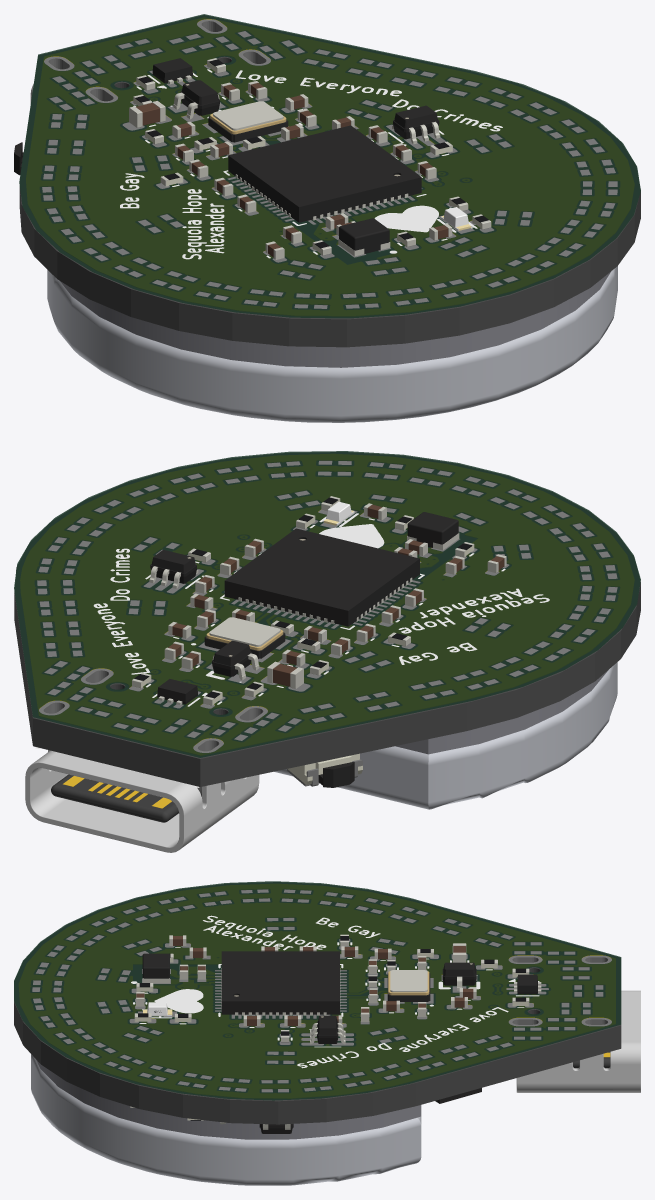
The model's file is board.glb.
3 views of the same model, one above another, from view 1: azimuth 30°, elevation 25°; view 2: azimuth 150°, elevation 25°; view 3: azimuth 270°, elevation 25° (orthographic). The views are drawn at different scales.
Visible parts, largest first — view 1: earring_soldermask, earring_copper, lpr302823, earring_PCB, earring_pad, QFN-56-1EP_7x7mm_P0.4mm_EP3.2x3.2mm, vhb_4956, earring_silkscreen, Crystal_SMD_3225-4Pin_3.2x2.5mm, L_Murata_DFE201610P, SOT-363_SC-70-6, SOT-323_SC-70 (+2 smaller); view 2: earring_soldermask, earring_copper, earring_PCB, earring_pad, USB_C_Receptacle_HRO_TYPE-C-31-M-12, lpr302823, QFN-56-1EP_7x7mm_P0.4mm_EP3.2x3.2mm, earring_silkscreen, vhb_4956, Crystal_SMD_3225-4Pin_3.2x2.5mm, SW_SPST_B3U-3000P, L_Murata_DFE201610P (+4 smaller); view 3: earring_soldermask, earring_copper, earring_PCB, lpr302823, earring_pad, QFN-56-1EP_7x7mm_P0.4mm_EP3.2x3.2mm, vhb_4956, USB_C_Receptacle_HRO_TYPE-C-31-M-12, earring_silkscreen, Crystal_SMD_3225-4Pin_3.2x2.5mm, L_Murata_DFE201610P, SOT-363_SC-70-6 (+2 smaller).
Boxes of the visible parts, x1=… form: earring_soldermask: x1=19, y1=14, x2=640, y2=318; earring_copper: x1=26, y1=18, x2=633, y2=315; lpr302823: x1=47, y1=266, x2=617, y2=422; earring_PCB: x1=19, y1=15, x2=640, y2=347; earring_pad: x1=42, y1=19, x2=617, y2=309; QFN-56-1EP_7x7mm_P0.4mm_EP3.2x3.2mm: x1=228, y1=125, x2=421, y2=222; vhb_4956: x1=60, y1=271, x2=611, y2=367; earring_silkscreen: x1=120, y1=69, x2=502, y2=259; Crystal_SMD_3225-4Pin_3.2x2.5mm: x1=208, y1=101, x2=288, y2=142; L_Murata_DFE201610P: x1=338, y1=218, x2=390, y2=256; SOT-363_SC-70-6: x1=392, y1=105, x2=440, y2=144; SOT-323_SC-70: x1=173, y1=80, x2=220, y2=119; earring_soldermask: x1=14, y1=451, x2=640, y2=757; earring_copper: x1=20, y1=454, x2=633, y2=755; earring_PCB: x1=14, y1=452, x2=640, y2=786; earring_pad: x1=37, y1=461, x2=617, y2=752; USB_C_Receptacle_HRO_TYPE-C-31-M-12: x1=25, y1=750, x2=259, y2=852; lpr302823: x1=274, y1=662, x2=617, y2=809; QFN-56-1EP_7x7mm_P0.4mm_EP3.2x3.2mm: x1=224, y1=528, x2=419, y2=626; earring_silkscreen: x1=93, y1=513, x2=549, y2=706; vhb_4956: x1=395, y1=670, x2=608, y2=754; Crystal_SMD_3225-4Pin_3.2x2.5mm: x1=204, y1=617, x2=285, y2=658; SW_SPST_B3U-3000P: x1=287, y1=753, x2=362, y2=787; L_Murata_DFE201610P: x1=407, y1=512, x2=459, y2=550; earring_soldermask: x1=14, y1=881, x2=621, y2=1100; earring_copper: x1=19, y1=884, x2=615, y2=1098; earring_PCB: x1=14, y1=882, x2=621, y2=1124; lpr302823: x1=31, y1=1054, x2=421, y2=1185; earring_pad: x1=32, y1=889, x2=611, y2=1092; QFN-56-1EP_7x7mm_P0.4mm_EP3.2x3.2mm: x1=221, y1=951, x2=340, y2=1015; vhb_4956: x1=36, y1=1059, x2=421, y2=1139; USB_C_Receptacle_HRO_TYPE-C-31-M-12: x1=516, y1=990, x2=640, y2=1092; earring_silkscreen: x1=131, y1=915, x2=539, y2=1068; Crystal_SMD_3225-4Pin_3.2x2.5mm: x1=387, y1=970, x2=430, y2=1001; L_Murata_DFE201610P: x1=142, y1=953, x2=169, y2=983; SOT-363_SC-70-6: x1=310, y1=1015, x2=345, y2=1044.
Bounding box in the file's own units: 0.0305 × 0.00748 × 0.0368.
